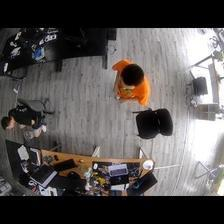normal: (108, 56, 150, 108), (2, 96, 50, 140)
